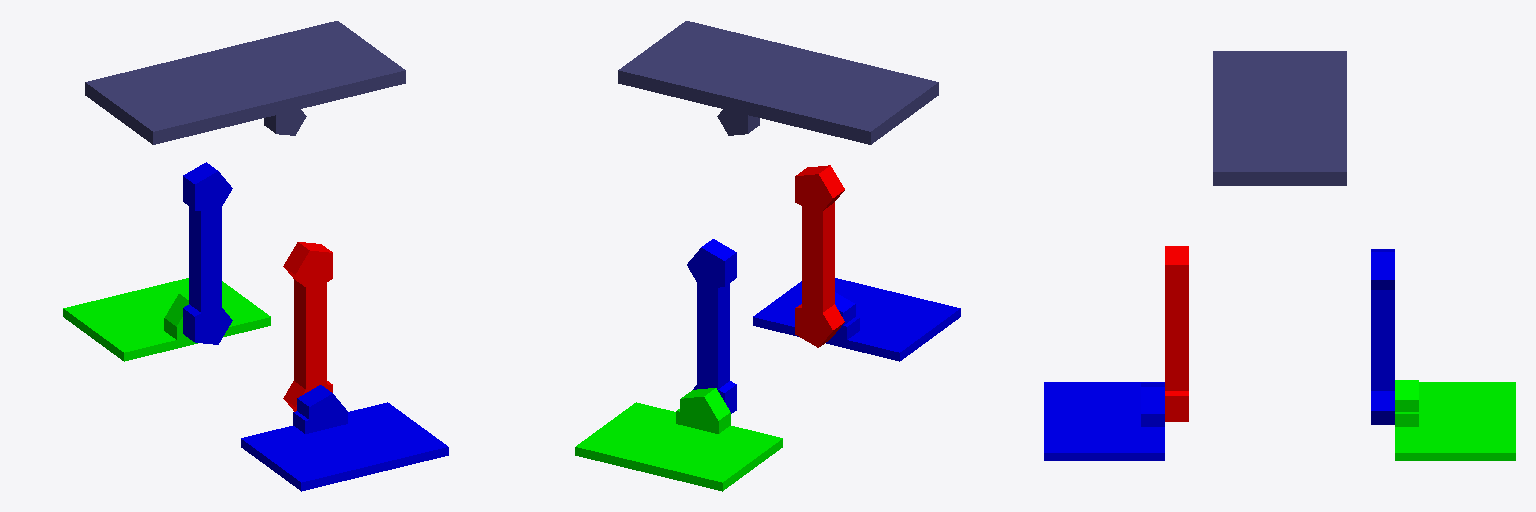
URDF robot description (pointone):
<?xml version="1.0" encoding="utf-8"?>
<robot name="pointone">

<link name="hip">
<visual>
 <origin rpy="0 0 0" xyz="0 0 0"/>
  <geometry>
    <mesh filename="hip2.stl"/>
  </geometry>
  <material name="">
    <color rgba="0.3 0.3 0.5 1"/>
  </material>
</visual>
<collision>
  <origin rpy="0 0 0" xyz="0 0 0"/>
  <geometry>
    <mesh filename="hip2.stl"/>
  </geometry>
</collision>
<inertial>
  <mass value="4"/>
  <origin rpy="0 0 0" xyz="0 0 0"/>
  <inertia ixx="0.0216667" ixy="0" ixz="0" iyy="0.0216667" iyz="0" izz="0.0240667"/>
</inertial>
</link>

<link name="rightthigh">
<visual>
 <origin rpy="0 0 0" xyz="0.025 -0.14 0.0"/>
  <geometry>
    <mesh filename="rightthigh2.stl"/>
  </geometry>
  <material name="">
    <color rgba="1 1 0 1"/>
  </material>
</visual>
<collision>
  <origin rpy="0 0 0" xyz="0.025 -0.14 0.0"/>
  <geometry>
    <mesh filename="rightthigh2.stl"/>
  </geometry>
</collision>
<inertial>
  <mass value="4"/>
  <origin rpy="0 0 0" xyz="0 0 0"/>
  <inertia ixx="0.0216667" ixy="0" ixz="0" iyy="0.0216667" iyz="0" izz="0.0240667"/>
</inertial>
</link>

<link name="rightfemur">
<visual>
 <origin rpy="0 0 0" xyz="0.03 -0.19 -0.30"/>
  <geometry>
    <mesh filename="rightfemur2.stl"/>
  </geometry>
  <material name="">
    <color rgba="1 0 0 1"/>
  </material>
</visual>
<collision>
  <origin rpy="0 0 0" xyz="0.03 -0.19 -0.30"/>
  <geometry>
    <mesh filename="rightfemur2.stl"/>
  </geometry>
</collision>
<inertial>
  <mass value="4"/>
  <origin rpy="0 0 0" xyz="0 0 0"/>
  <inertia ixx="0.0216667" ixy="0" ixz="0" iyy="0.0216667" iyz="0" izz="0.0240667"/>
</inertial>
</link>

<link name="rightfoot">
<visual>
 <origin rpy="0 0 0" xyz="0.025 -0.24 -0.61"/>
  <geometry>
    <mesh filename="rightfoot2.stl"/>
  </geometry>
  <material name="">
    <color rgba="0 0 1 1"/>
  </material>
</visual>
<collision>
  <origin rpy="0 0 0" xyz="0.025 -0.24 -0.61"/>
  <geometry>
    <mesh filename="rightfoot2.stl"/>
  </geometry>
</collision>
<inertial>
  <mass value="4"/>
  <origin rpy="0 0 0" xyz="0 0 0"/>
  <inertia ixx="0.0216667" ixy="0" ixz="0" iyy="0.0216667" iyz="0" izz="0.0240667"/>
</inertial>
</link>

<link name="leftthigh">
<visual>
 <origin rpy="0 0 0" xyz="0.025 0.14 0.0"/>
  <geometry>
    <mesh filename="leftthigh2.stl"/>
  </geometry>
  <material name="">
    <color rgba="0 0 1 1"/>
  </material>
</visual>
<collision>
  <origin rpy="0 0 0" xyz="0.025 0.14 0.0"/>
  <geometry>
    <mesh filename="leftthigh2.stl"/>
  </geometry>
</collision>
<inertial>
  <mass value="4"/>
  <origin rpy="0 0 0" xyz="0 0 0"/>
  <inertia ixx="0.0216667" ixy="0" ixz="0" iyy="0.0216667" iyz="0" izz="0.0240667"/>
</inertial>
</link>

<link name="leftfemur">
<visual>
 <origin rpy="0 0 0" xyz="0.03 0.19 -0.30"/>
  <geometry>
    <mesh filename="leftfemur2.stl"/>
  </geometry>
  <material name="">
    <color rgba="0 0 1 1"/>
  </material>
</visual>
<collision>
  <origin rpy="0 0 0" xyz="0.03 0.19 -0.30"/>
  <geometry>
    <mesh filename="leftfemur2.stl"/>
  </geometry>
</collision>
<inertial>
  <mass value="4"/>
  <origin rpy="0 0 0" xyz="0 0 0"/>
  <inertia ixx="0.0216667" ixy="0" ixz="0" iyy="0.0216667" iyz="0" izz="0.0240667"/>
</inertial>
</link>

<link name="leftfoot">
<visual>
 <origin rpy="0 0 0" xyz="0.025 0.24 -0.61"/>
  <geometry>
    <mesh filename="leftfoot2.stl"/>
  </geometry>
  <material name="">
    <color rgba="0 1 0 1"/>
  </material>
</visual>
<collision>
  <origin rpy="0 0 0" xyz="0.025 0.24 -0.61"/>
  <geometry>
    <mesh filename="leftfoot2.stl"/>
  </geometry>
</collision>
<inertial>
  <mass value="4"/>
  <origin rpy="0 0 0" xyz="0 0 0"/>
  <inertia ixx="0.0216667" ixy="0" ixz="0" iyy="0.0216667" iyz="0" izz="0.0240667"/>
</inertial>
</link>

<joint name="hip2rightthigh" type="revolute">
<origin xyz="0 0 0"/>
<axis xyz="0 1 0"/>
<parent link="hip"/>
<child link="rightthigh"/>
</joint>

<joint name="hip2leftthigh" type="revolute">
<origin xyz="0 0 0"/>
<axis xyz="0 1 0"/>
<parent link="hip"/>
<child link="leftthigh"/>
</joint>

<joint name="rightthigh2rightfemur" type="revolute">
<origin xyz="0 0 0"/>
<axis xyz="0 1 0"/>
<parent link="rightthigh"/>
<child link="rightfemur"/>
</joint>

<joint name="leftthigh2leftfemur" type="revolute">
<origin xyz="0 0 0"/>
<axis xyz="0 1 0"/>
<parent link="leftthigh"/>
<child link="leftfemur"/>
</joint>

<joint name="rightfemur2rightfoot" type="fixed">
<origin xyz="0 0 0"/>
<axis xyz="0 1 0"/>
<parent link="rightfemur"/>
<child link="rightfoot"/>
</joint>

<joint name="leftfemur2leftfoot" type="fixed">
<origin xyz="0 0 0"/>
<axis xyz="0 1 0"/>
<parent link="leftfemur"/>
<child link="leftfoot"/>
</joint>

</robot>

--- Facts derived from the render (not from the file) ---
3 views of the same robot in one strip: view 1: azimuth 30°, elevation 25°; view 2: azimuth 150°, elevation 25°; view 3: azimuth 270°, elevation 25° (orthographic).
Robot: pointone — 7 links, 6 joints (4 revolute, 2 fixed); root link hip; default pose: all joints at 0.
Links seen in each view (by area): view 1: hip, rightfoot, leftfoot, leftfemur, rightfemur; view 2: hip, leftfoot, rightfoot, rightfemur, leftfemur; view 3: hip, leftfoot, rightfoot, rightfemur, leftfemur.
Link boxes in pixels (x1,y1,x2,y2): hip: [85, 21, 405, 144]; rightfoot: [241, 385, 448, 491]; leftfoot: [63, 278, 270, 361]; leftfemur: [183, 162, 232, 344]; rightfemur: [283, 242, 332, 411]; hip: [618, 21, 938, 144]; leftfoot: [575, 388, 782, 491]; rightfoot: [753, 278, 960, 361]; rightfemur: [795, 165, 844, 347]; leftfemur: [687, 239, 736, 413]; hip: [1213, 51, 1346, 185]; leftfoot: [1395, 380, 1515, 460]; rightfoot: [1044, 382, 1164, 460]; rightfemur: [1165, 246, 1188, 421]; leftfemur: [1371, 249, 1394, 424].
Bounding box of the posed robot: 0.6 × 0.98 × 0.71 m (x, y, z).
Meshes: 7 distinct files referenced, 5 mesh visuals loaded (5 binary STL); not drawn: 2 (reference not matched to a file when rendering).